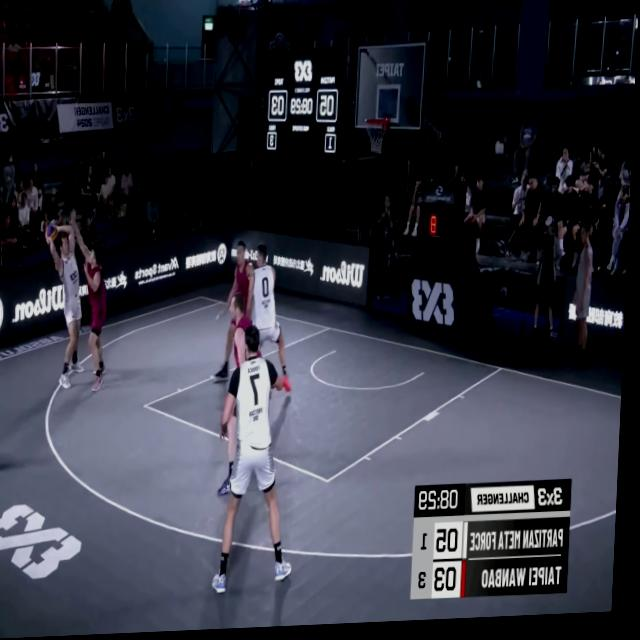ball: (43, 215, 62, 250)
hoop: (362, 113, 393, 168)
player: (212, 325, 304, 596), (214, 289, 277, 501), (64, 210, 121, 397), (37, 213, 91, 392), (244, 239, 301, 398), (214, 234, 265, 393)
